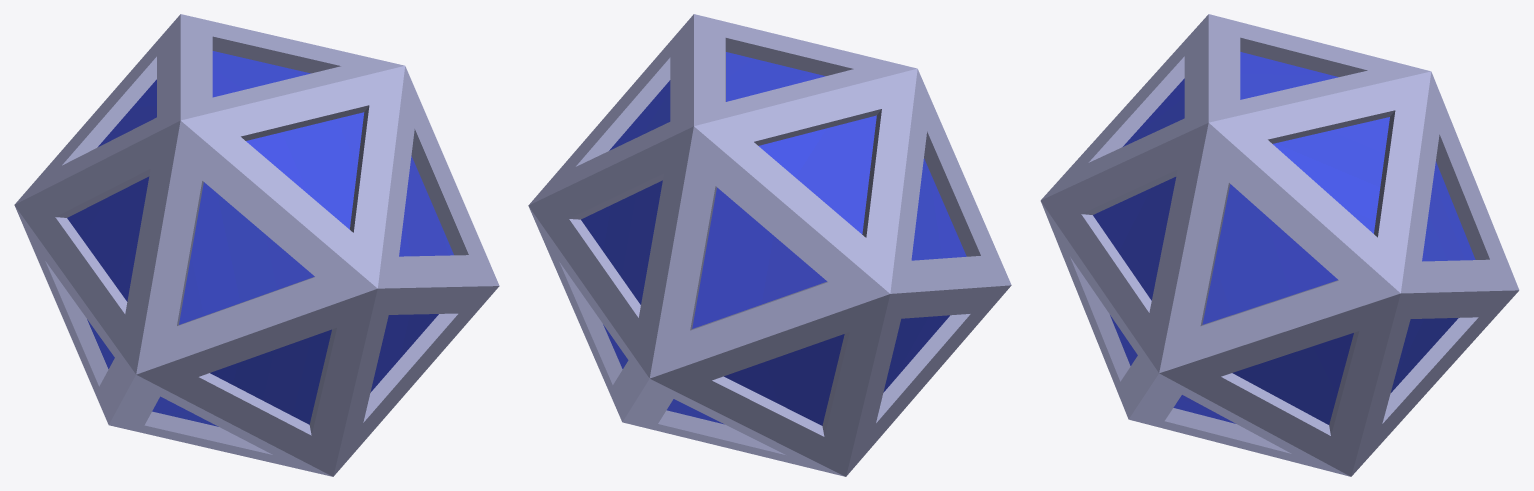
Rendered from LinkRedesSociales.gltf.
3 views of the same model, side by side, from view 1: azimuth 30°, elevation 25°; view 2: azimuth 150°, elevation 25°; view 3: azimuth 270°, elevation 25° (orthographic).
Parts seen in each view (by area): view 1: Platónico; view 2: Platónico; view 3: Platónico.
Part boxes in pixels (bbox=[...]): Platónico: bbox=[14, 14, 499, 476]; Platónico: bbox=[528, 14, 1011, 476]; Platónico: bbox=[1040, 14, 1519, 476].
Size of the model in its own units: 0.8811 by 0.8278 by 1.01.
1 material, 1 textured.
